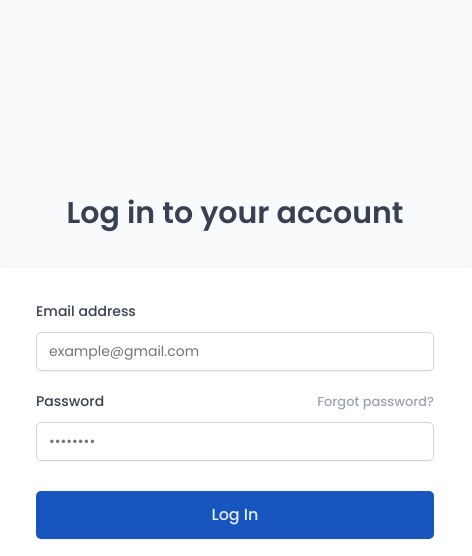
Test: Login Logic and Forgot Password Flow › validating the login form with the wrong data
In the field with id "email": (235, 352) [36,332,434,371], type "user@example.com"
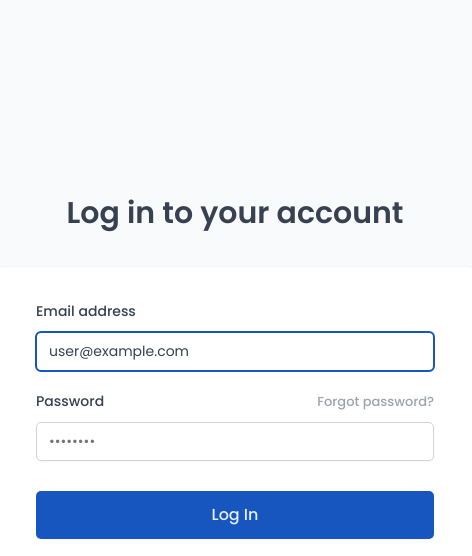
In the password field with placeholder "••••••••": (235, 442) [36,422,434,461], type "password123"
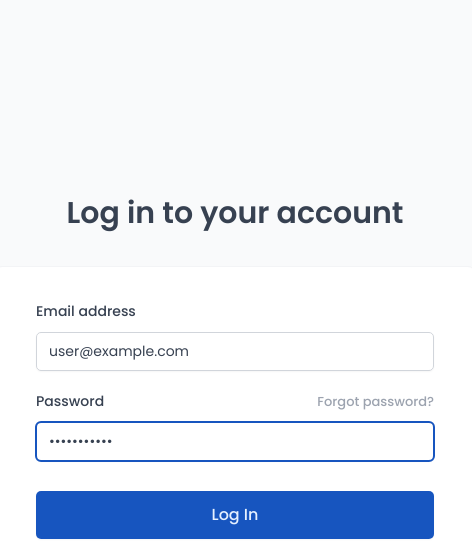
Click the button "Log In": (235, 515) [36,491,434,539]
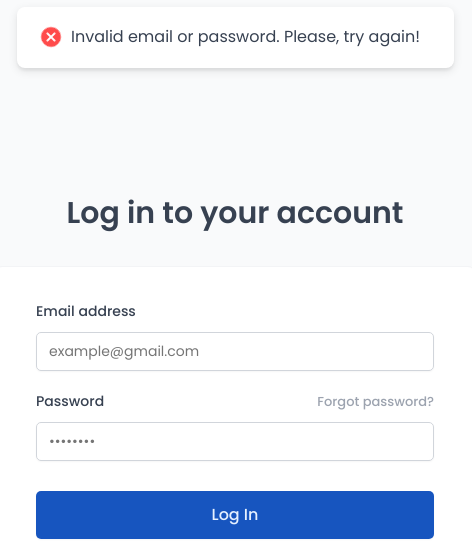
Expected: the text "Forgot password?" is shown, [317,392,434,411]
Result: the text "Invalid email or password. Please, try again!" is shown at [70,27,420,48]
